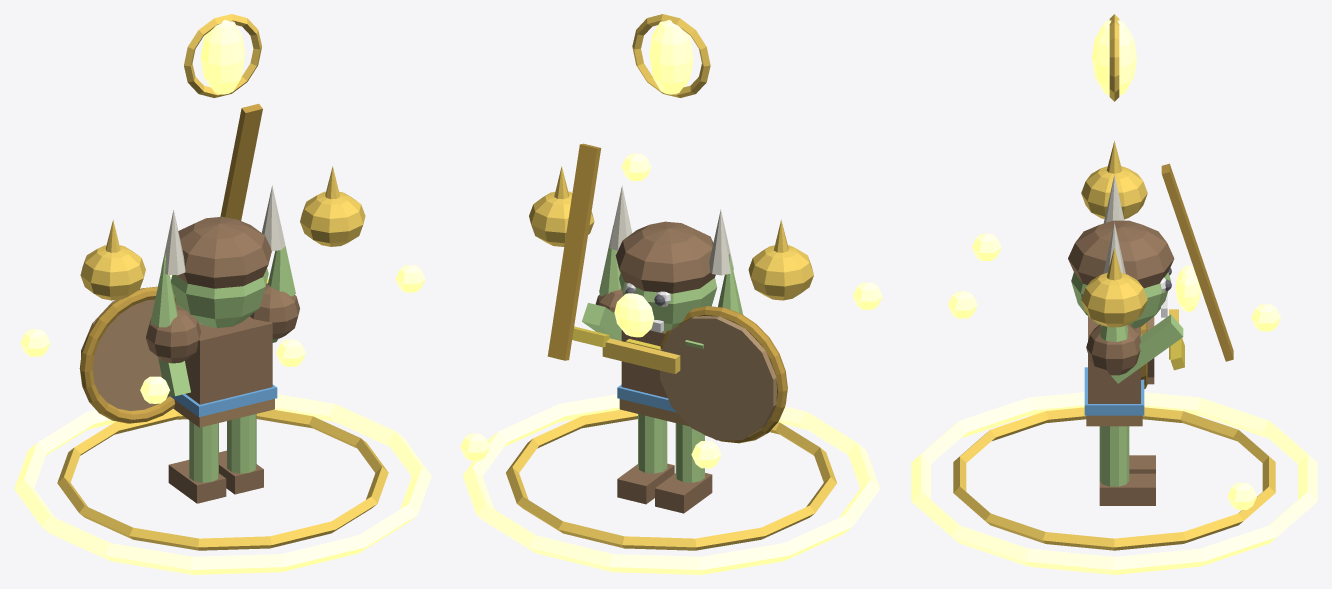
Rendered from hero_goblins.glb.
3 renders of one model, left to right at view 1: azimuth 30°, elevation 25°; view 2: azimuth 150°, elevation 25°; view 3: azimuth 270°, elevation 25°, orthographic.
Parts seen in each view (by area): view 1: hero_goblins; view 2: hero_goblins; view 3: hero_goblins.
Boxes of the visible parts, x1,y1,x2,y2 form: hero_goblins: [14, 14, 431, 574]; hero_goblins: [460, 14, 882, 574]; hero_goblins: [911, 14, 1317, 574].
Bounding box in the file's own units: 2.8 × 3.51 × 2.73.
